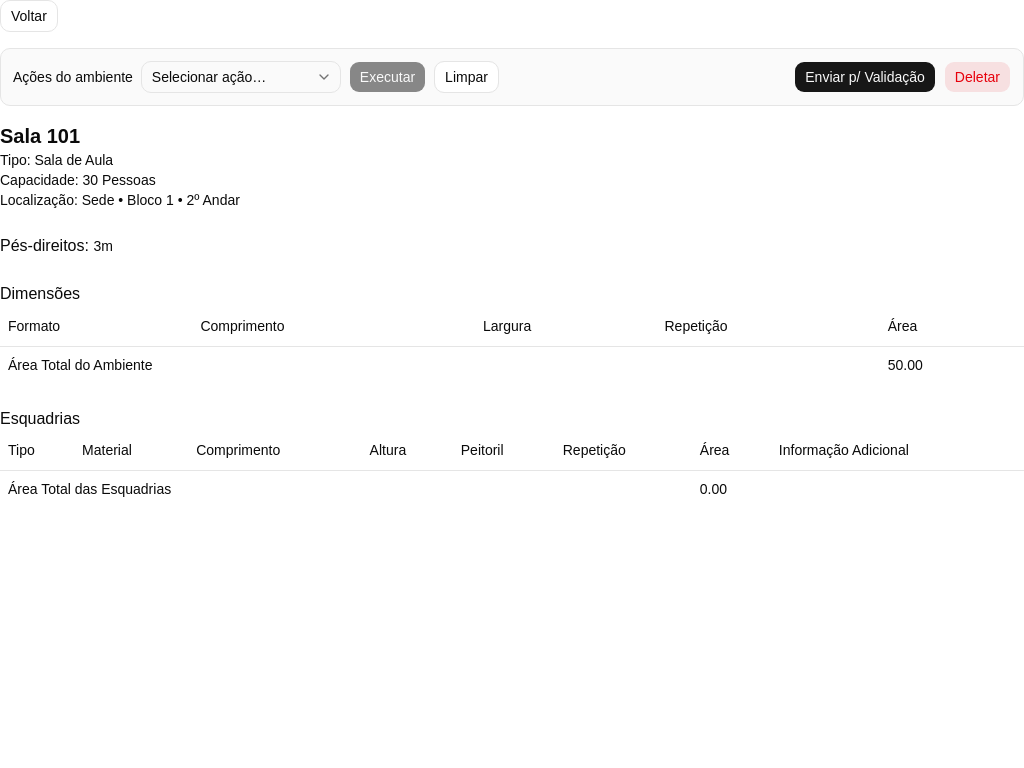
Test: NaoPublicadoDetalhePage › duplicar via ModalDuplicar (UC17-FE) › renderiza ModalDuplicar (não ModalConfirmacao) pré-preenchido com os dados originais
Click the dropdown labelled "Selecionar ação" at [241, 77], box left=141, top=61, right=341, bottom=93
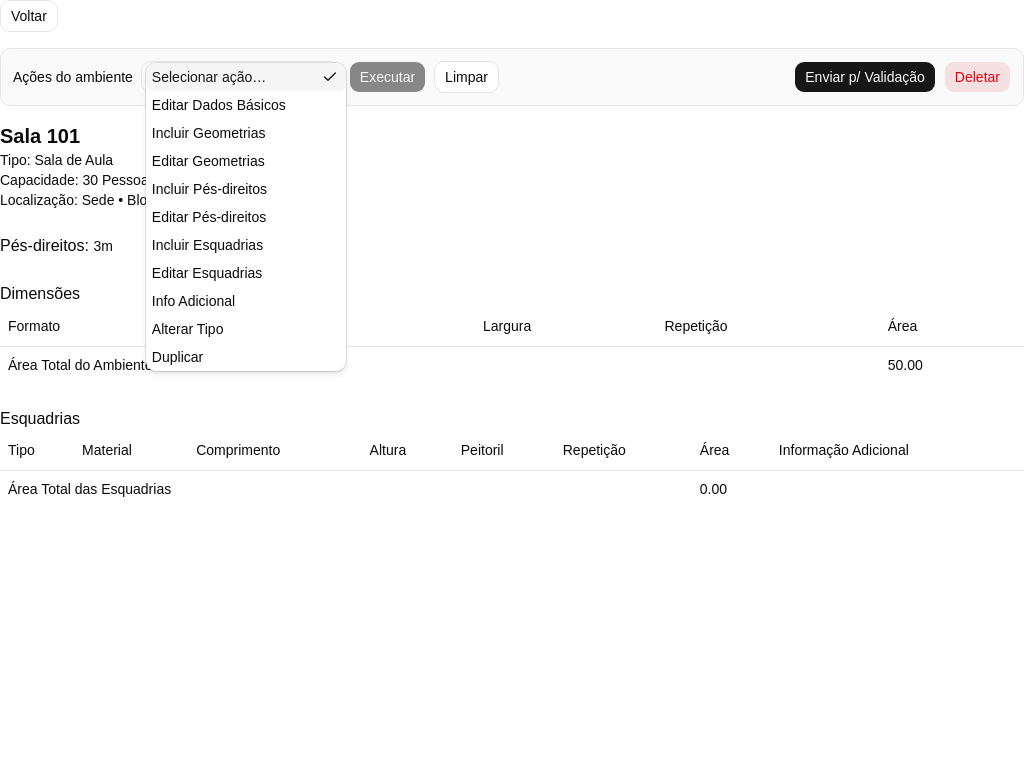
Click the option "Duplicar" at [178, 357], box left=152, top=349, right=203, bottom=365
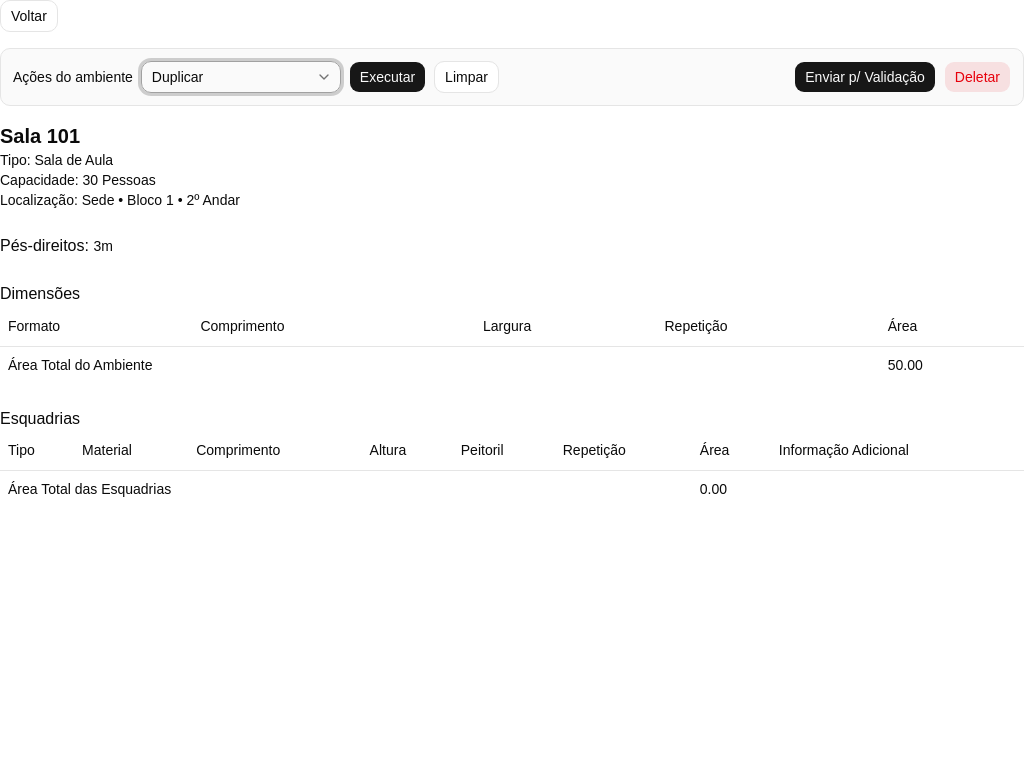
Click the button "Executar" at [388, 77], box left=349, top=61, right=426, bottom=93
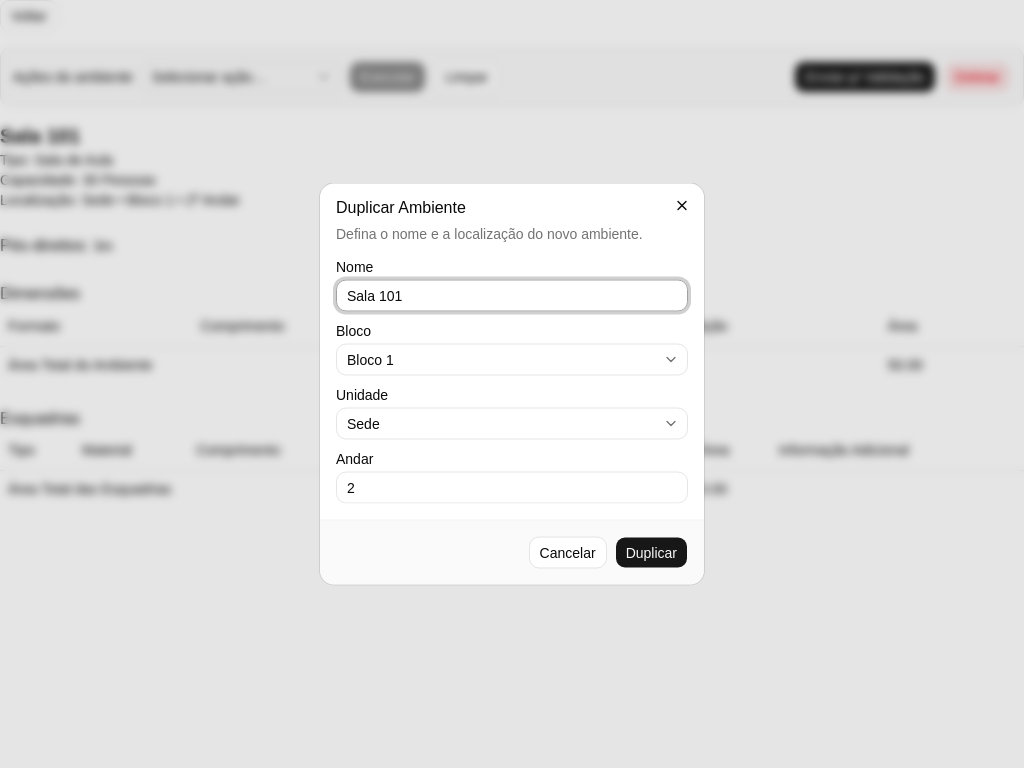
Expected: the heading "Duplicar Ambiente" is shown, left=336, top=198, right=466, bottom=216
Expected: the field labelled "Nome" holds "Sala 101", left=336, top=280, right=688, bottom=312
